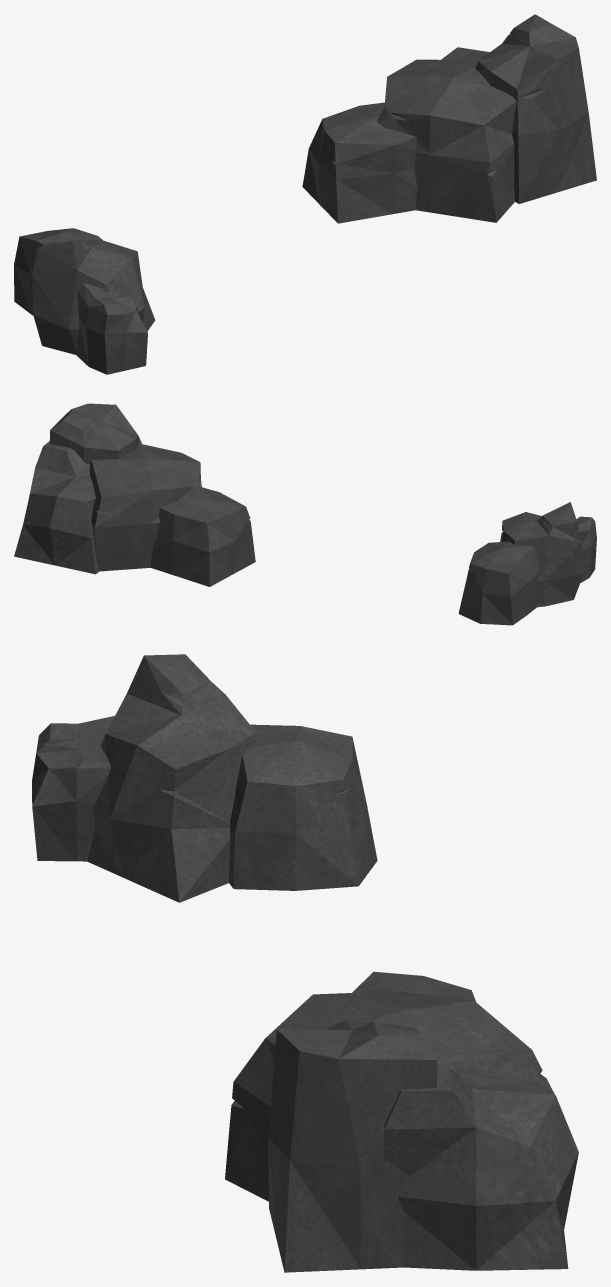
The model's file is fuging rocks.fbx.
The picture shows the model from 3 angles, top to bottom: view 1: azimuth 30°, elevation 25°; view 2: azimuth 150°, elevation 25°; view 3: azimuth 270°, elevation 25°; orthographic projection. The views are drawn at different scales.
Parts seen in each view (by area): view 1: Cube.015, Cube.014, Cube.016, Cube.003, Cube.002, Cube; view 2: Cube.015, Cube.013, Cube.016, Cube, Cube.003, Cube.014, Cube.002; view 3: Cube.014, Cube.013, Cube.003, Cube, Cube.015, Cube.002, Cube.016.
Part boxes in pixels (left/top/right/bottom): Cube.015: left=377, top=59, right=516, bottom=222; Cube.014: left=475, top=14, right=596, bottom=203; Cube.016: left=302, top=102, right=417, bottom=223; Cube.003: left=32, top=240, right=155, bottom=354; Cube.002: left=76, top=283, right=147, bottom=374; Cube: left=14, top=228, right=102, bottom=315; Cube.015: left=89, top=444, right=204, bottom=571; Cube.013: left=14, top=441, right=98, bottom=574; Cube.016: left=151, top=487, right=255, bottom=586; Cube: left=458, top=541, right=539, bottom=625; Cube.003: left=500, top=502, right=583, bottom=607; Cube.014: left=50, top=403, right=141, bottom=464; Cube.002: left=576, top=516, right=596, bottom=582; Cube.014: left=268, top=1020, right=436, bottom=1272; Cube.013: left=383, top=1068, right=578, bottom=1270; Cube.003: left=87, top=654, right=258, bottom=902; Cube: left=229, top=724, right=377, bottom=890; Cube.015: left=225, top=991, right=554, bottom=1201; Cube.002: left=32, top=716, right=114, bottom=861; Cube.016: left=352, top=971, right=475, bottom=1001.
Bounding box in the file's own units: 31426 × 6977 × 15451.
